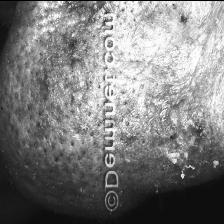Potentially Malignant Skin Tumors: (156, 104, 220, 176), (58, 17, 95, 95)
